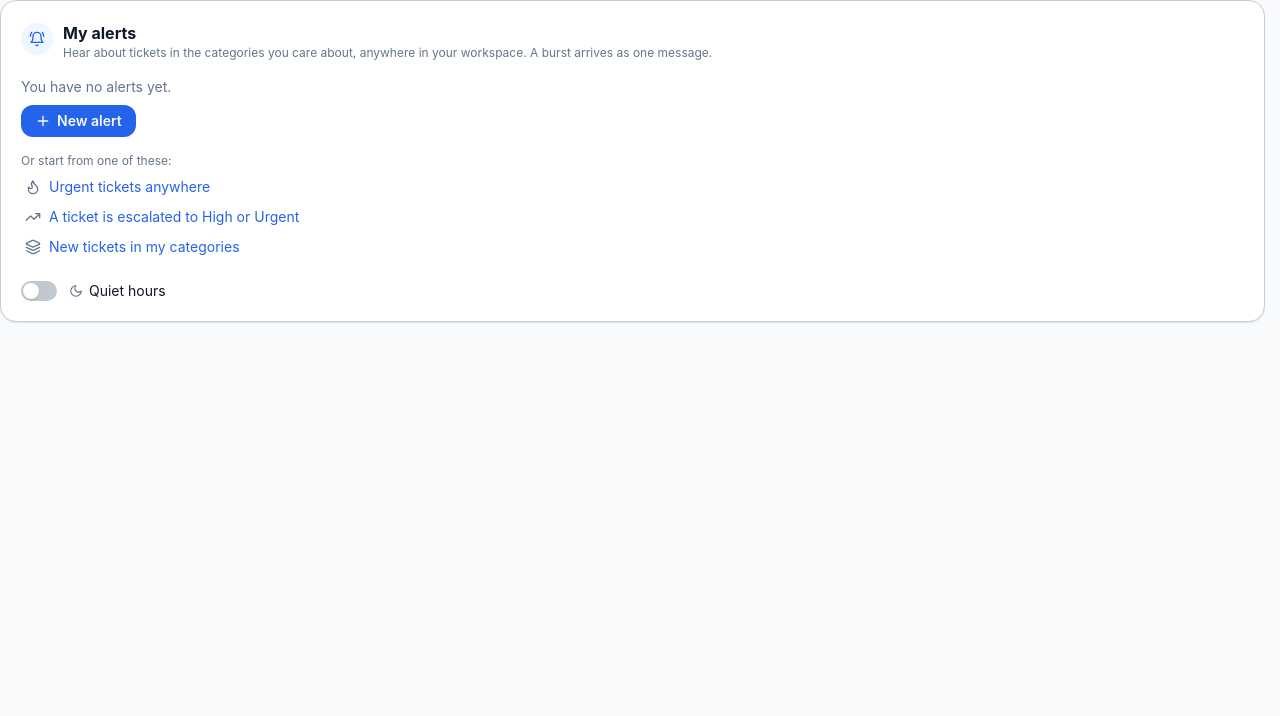
Test case: My alerts › ticking a top category includes all of its subcategories
Click the button "New alert": (78, 121) [21,105,136,137]
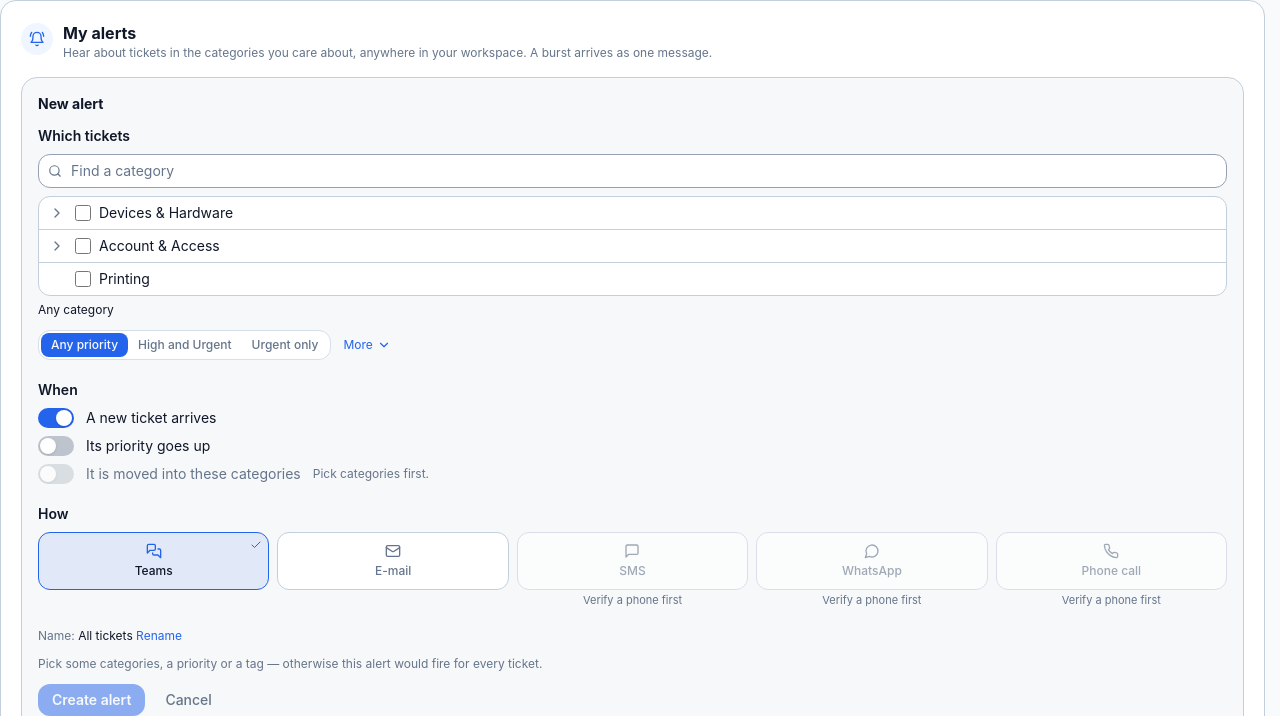
Click the checkbox labelled "Devices & Hardware": (83, 213) [75,205,91,221]
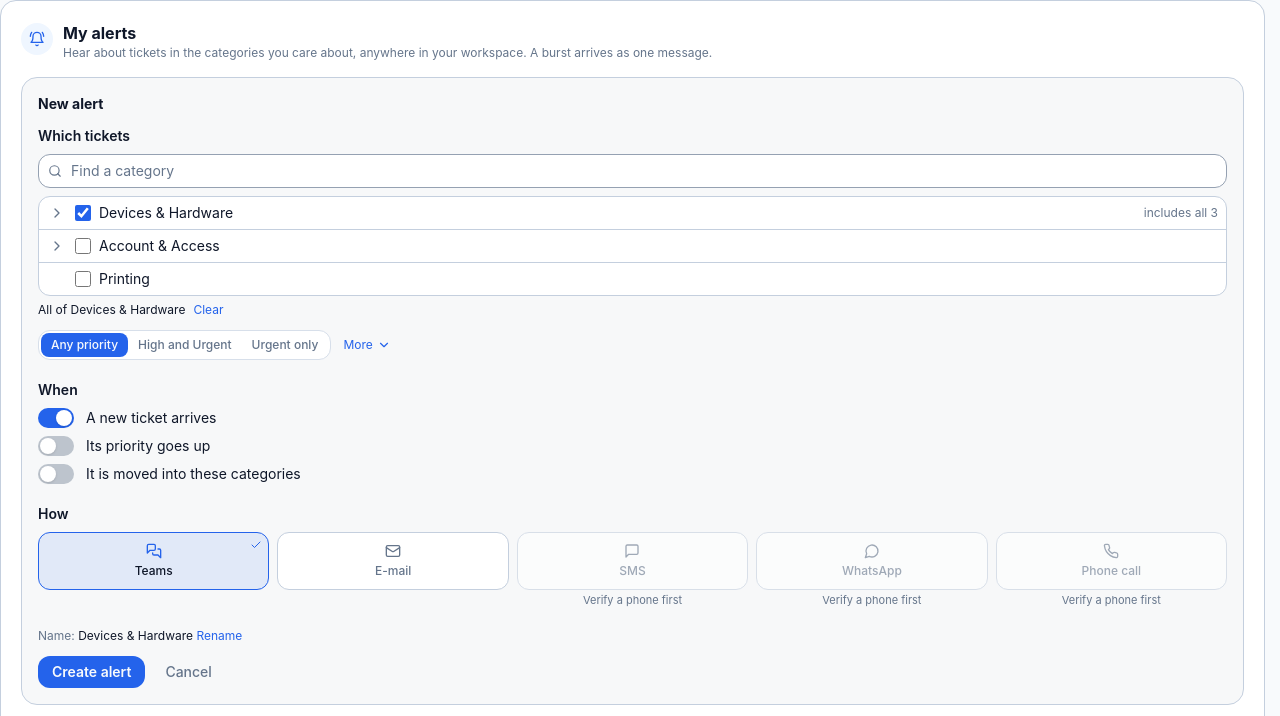
Click the button named "Show subcategories of Devices & Hardware": (57, 213) [47,203,67,223]
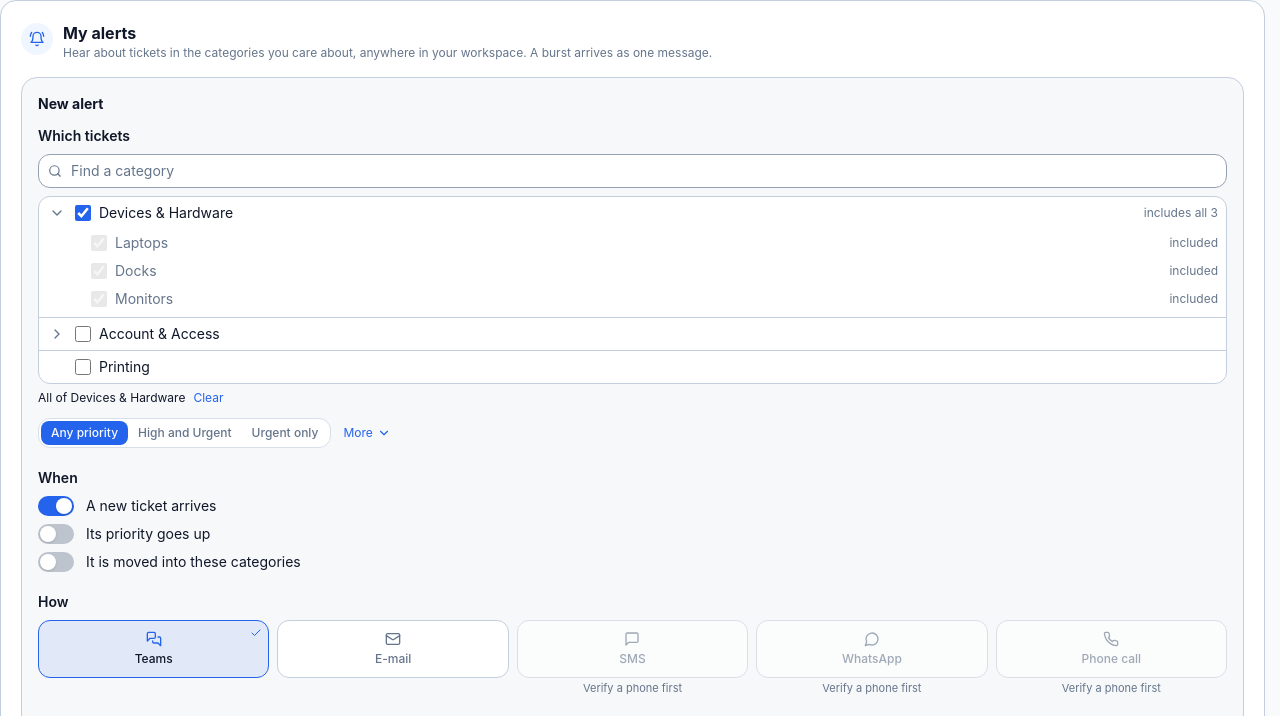
Now the text "includes all 3" is shown, box [1144,205,1218,221]
Now the text with test id "alert-category-summary" reads "All of Devices & Hardware", box [38,390,185,405]
Now the text "included" is shown 3 times, box [1170,235,1218,251]; [1170,263,1218,279]; [1170,291,1218,307]
